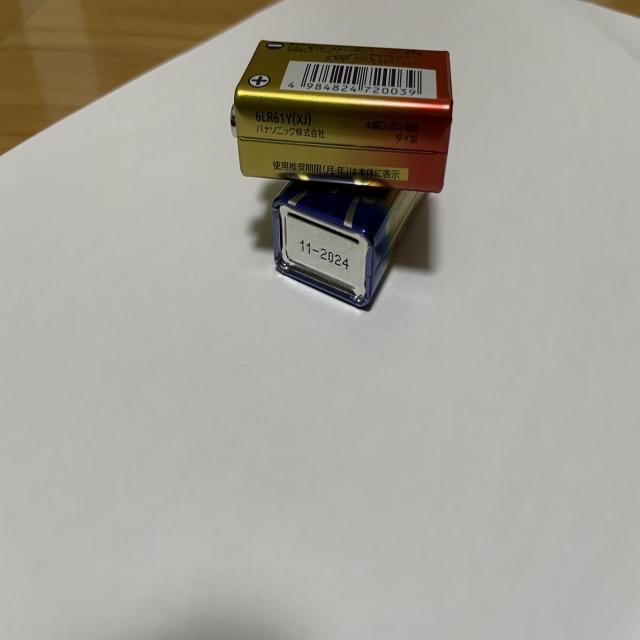9V: (229, 41, 455, 197), (271, 178, 431, 309)
